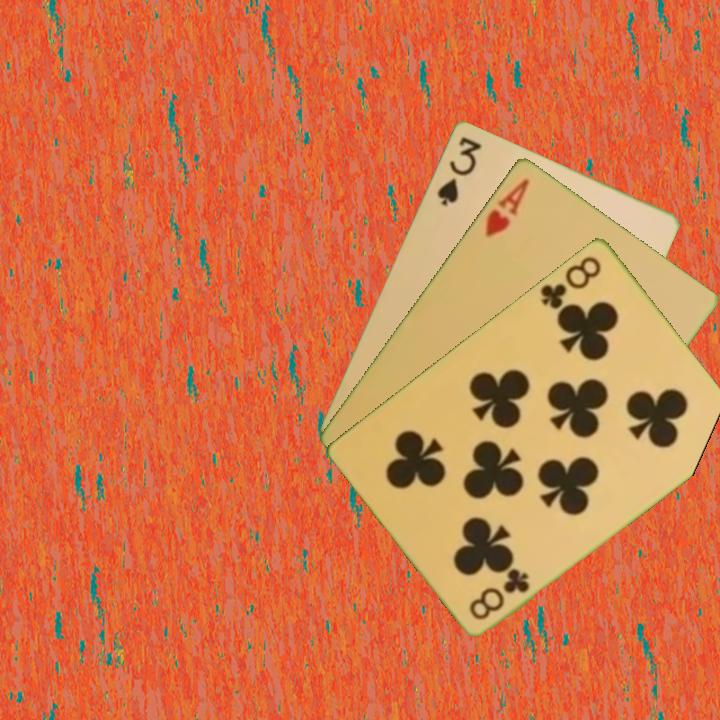3s: (433, 132, 484, 209)
8c: (537, 251, 604, 312), (465, 564, 533, 623)
Ah: (481, 174, 533, 240)
